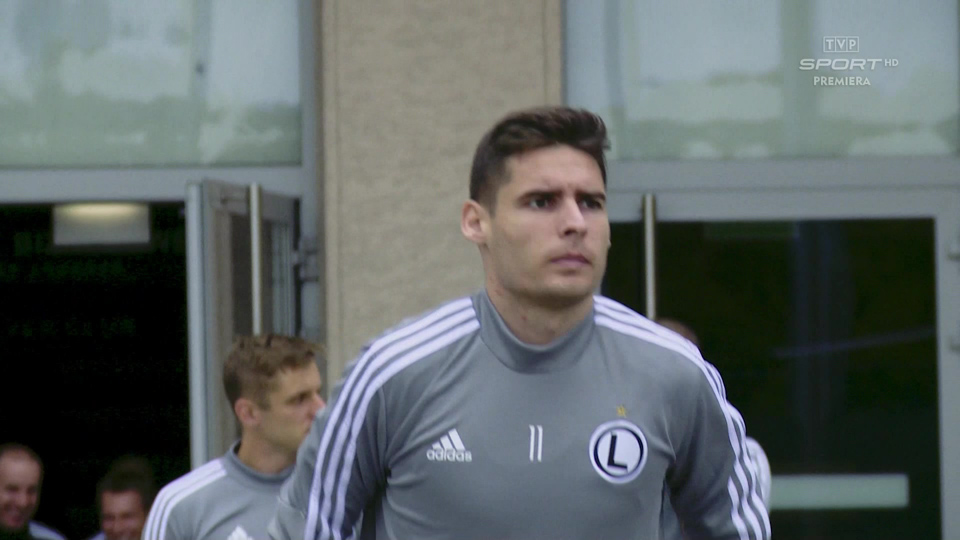Adidas: (426, 428, 473, 464)
